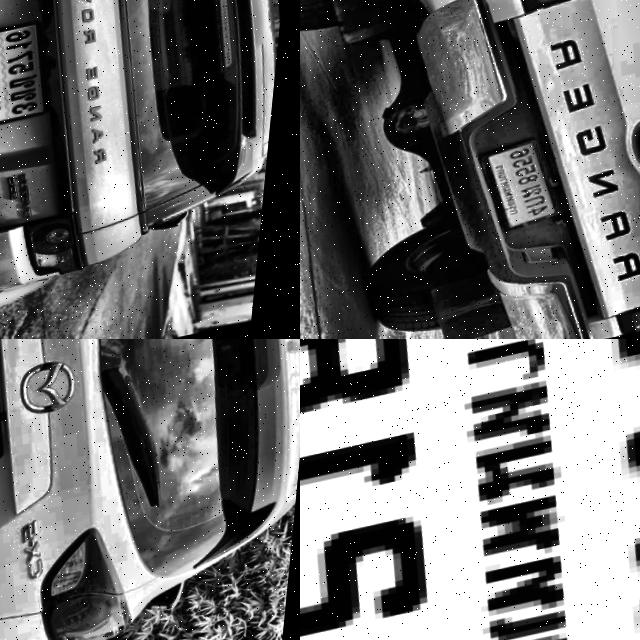license-plate: (300, 339, 640, 640), (482, 137, 576, 239), (0, 20, 66, 135), (0, 339, 25, 480)
